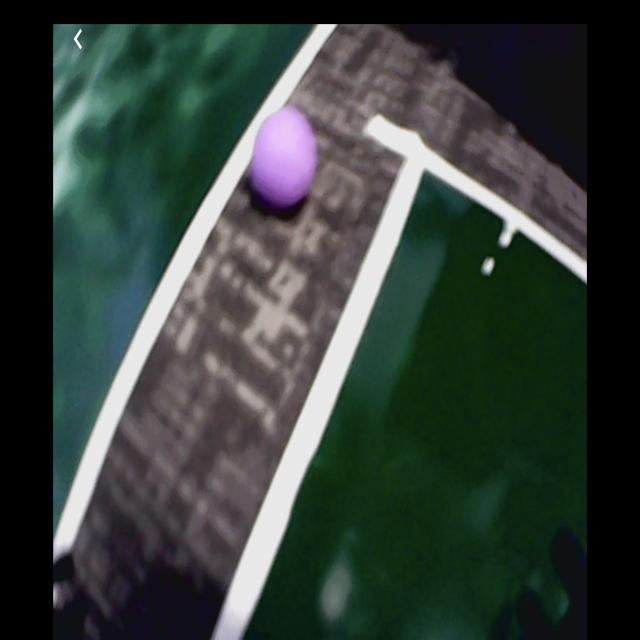ball: (253, 108, 319, 209)
